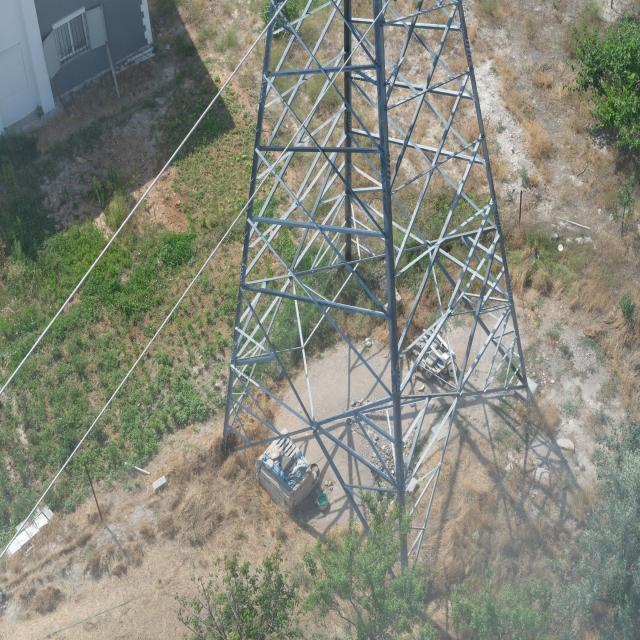voltage_line: (218, 0, 544, 582)
